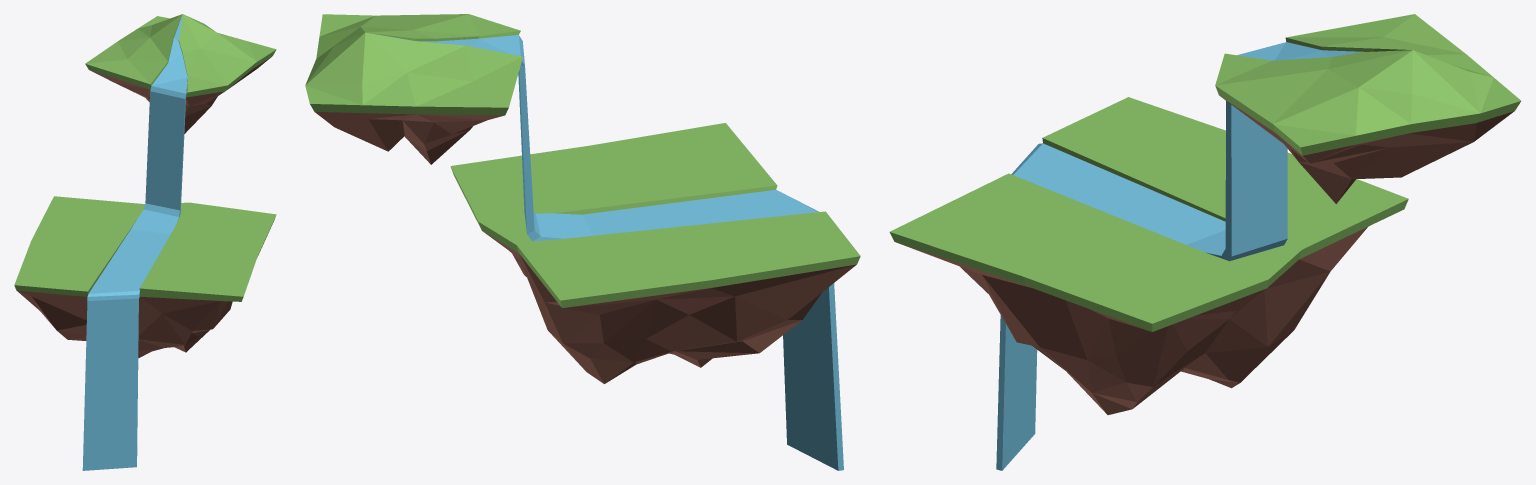
Rendered from Island10_tex.fbx.
The picture shows the model from 3 angles, left to right: view 1: azimuth 30°, elevation 25°; view 2: azimuth 150°, elevation 25°; view 3: azimuth 270°, elevation 25°; orthographic projection. The views are drawn at different scales.
Parts seen in each view (by area): view 1: Island10_tex; view 2: Island10_tex; view 3: Island10_tex.
Boxes of the visible parts, x1,y1,x2,y2 form: Island10_tex: (14,14,276,470); Island10_tex: (305,14,860,470); Island10_tex: (889,14,1520,470).
Size of the model in its own units: 6.19 by 6.14 by 6.28.
